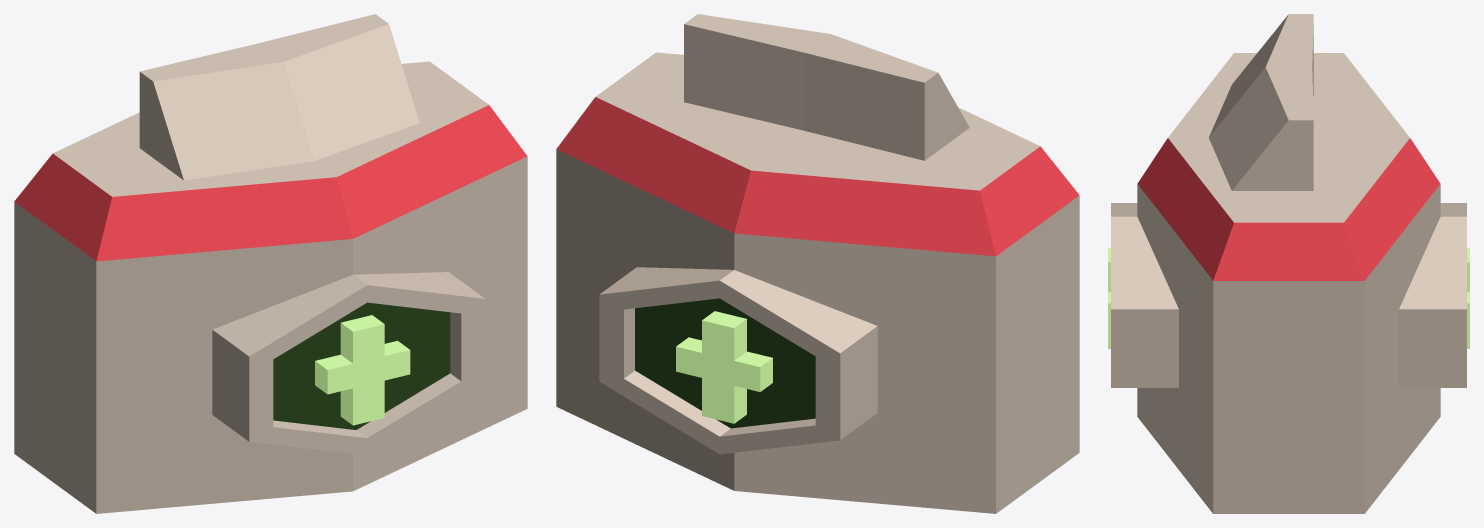
File: Aid.fbx
3 renders of one model, left to right at view 1: azimuth 30°, elevation 25°; view 2: azimuth 150°, elevation 25°; view 3: azimuth 270°, elevation 25°, orthographic. The views are drawn at different scales.
Visible parts, largest first — view 1: Cube.012; view 2: Cube.012; view 3: Cube.012.
Part boxes in pixels (box(x1,y1,x2,y2)): Cube.012: box(14, 14, 527, 513); Cube.012: box(556, 14, 1079, 513); Cube.012: box(1108, 14, 1469, 513).
Size of the model in its own units: 162 by 136 by 127.
